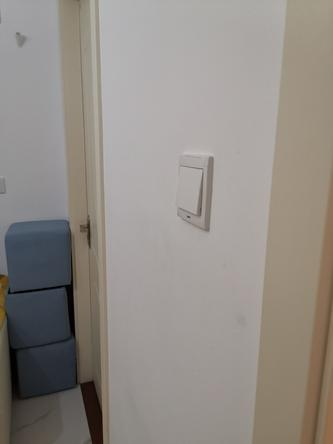switch: (174, 162, 209, 217)
